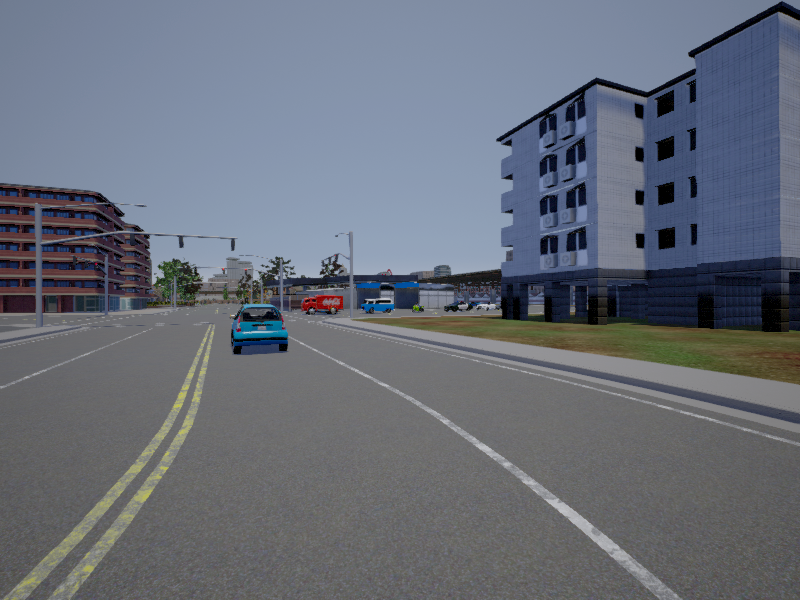Benign: (229, 305, 291, 352), (300, 296, 343, 315), (361, 298, 395, 314), (445, 302, 473, 316)
